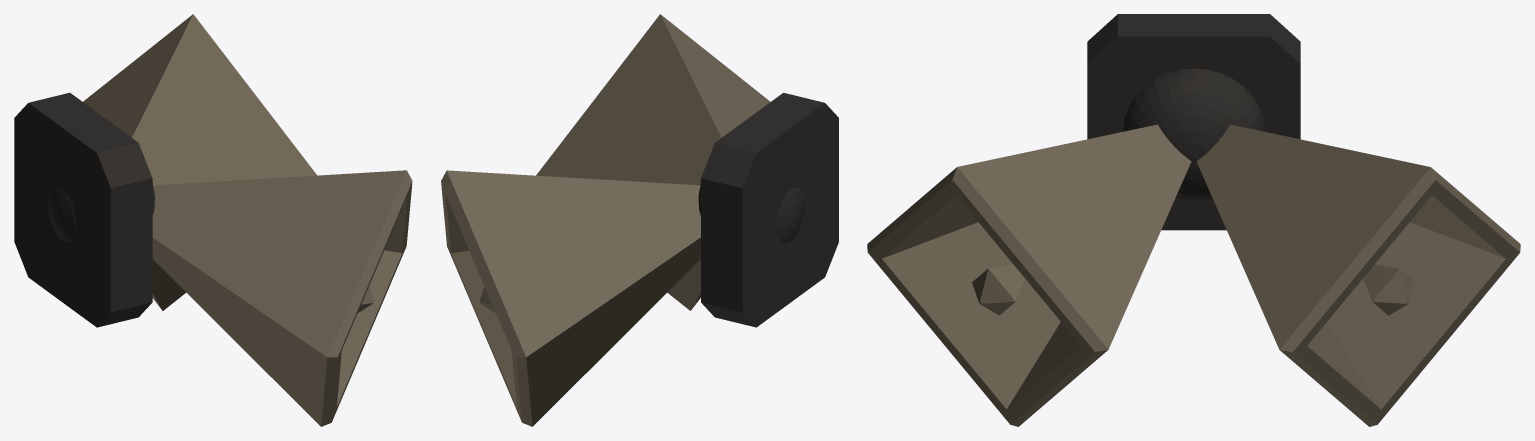
File: speaker.fbx
The picture shows the model from 3 angles, left to right: view 1: azimuth 30°, elevation 25°; view 2: azimuth 150°, elevation 25°; view 3: azimuth 270°, elevation 25°; orthographic projection. The views are drawn at different scales.
Visible parts, largest first — view 1: Cone, Cube, Cone.001, Sphere; view 2: Cone.001, Cube, Cone, Sphere; view 3: Cone, Cone.001, Cube, Sphere.
Part boxes in pixels (x1,y1,x2,y2): Cone: [152, 170, 412, 426]; Cube: [14, 92, 152, 327]; Cone.001: [83, 14, 317, 310]; Sphere: [48, 183, 154, 242]; Cone.001: [441, 170, 700, 426]; Cube: [701, 92, 838, 327]; Cone: [536, 14, 770, 310]; Sphere: [698, 183, 804, 242]; Cone: [867, 124, 1191, 426]; Cone.001: [1196, 124, 1520, 426]; Cube: [1087, 14, 1300, 230]; Sphere: [1122, 68, 1265, 201].
Bounding box in the file's own units: 36.47 × 32.65 × 61.19.
